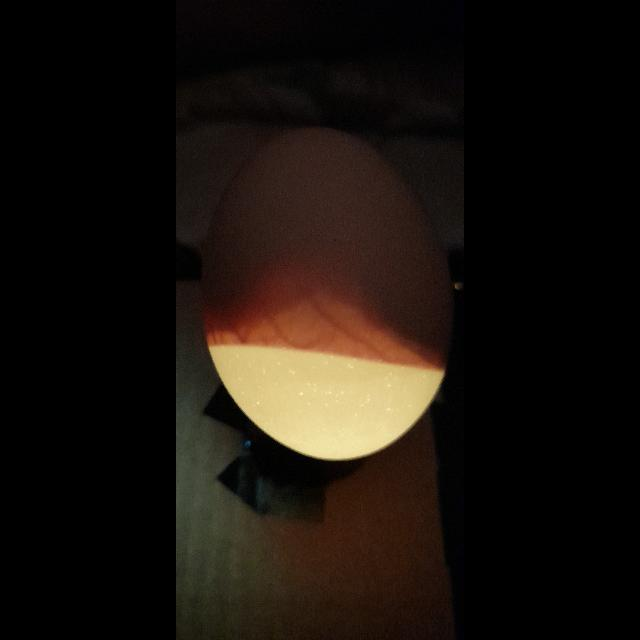Fertile: (200, 127, 454, 459)
